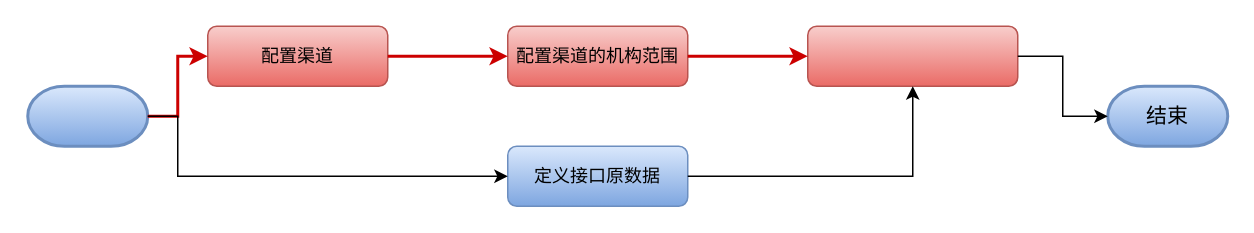
This 1254x233 diagram has some shape labels left out. Here are the shapes that lost their labels. From the top down, the centre of each, then its label:
(x=912, y=55): 配置渠道可调用的接口及其调用规则
(x=87, y=115): 开始
